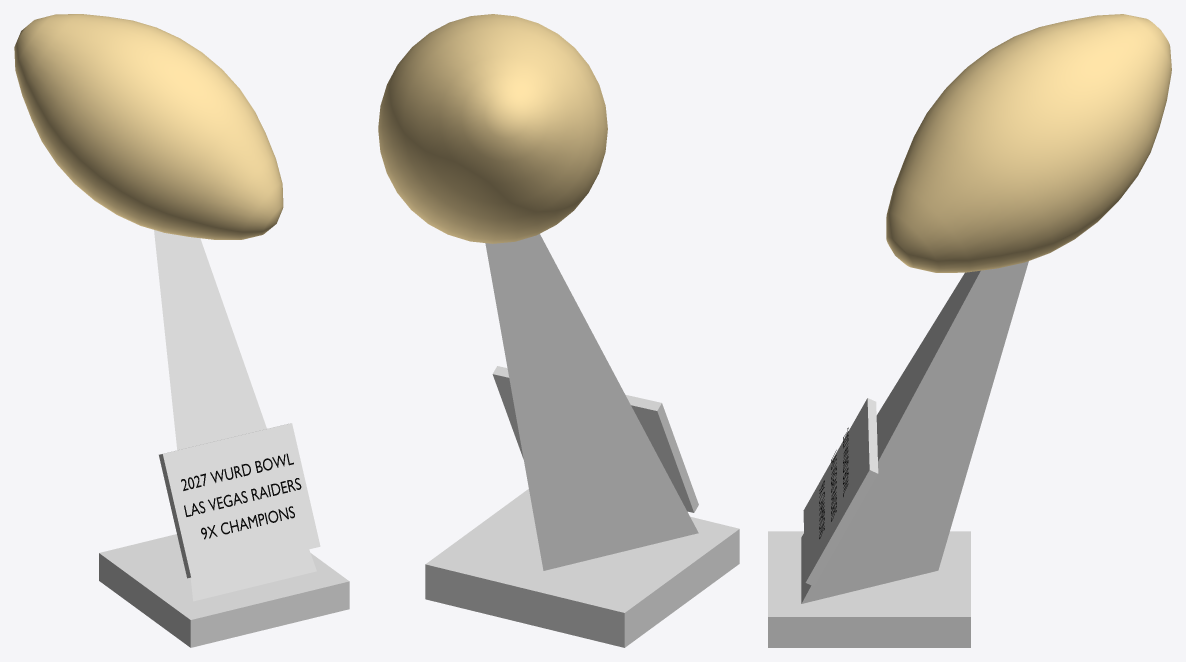
File: wurd_trophy_1.glb
3 views of the same model, side by side, from view 1: azimuth 30°, elevation 25°; view 2: azimuth 150°, elevation 25°; view 3: azimuth 270°, elevation 25° (orthographic). The views are drawn at different scales.
Visible parts, largest first — view 1: Sphere, Cylinder, Cube.001, Cube, Text; view 2: Sphere, Cylinder, Cube, Cube.001; view 3: Sphere, Cylinder, Cube, Cube.001, Text.
Boxes of the visible parts, left/top/right/bottom form: Sphere: left=14, top=14, right=283, bottom=239; Cylinder: left=154, top=230, right=316, bottom=601; Cube.001: left=159, top=423, right=320, bottom=578; Cube: left=99, top=534, right=349, bottom=647; Text: left=181, top=453, right=301, bottom=539; Sphere: left=378, top=14, right=607, bottom=243; Cylinder: left=485, top=234, right=698, bottom=570; Cube: left=425, top=489, right=739, bottom=647; Cube.001: left=492, top=366, right=698, bottom=512; Sphere: left=886, top=14, right=1171, bottom=272; Cylinder: left=801, top=261, right=1028, bottom=603; Cube: left=768, top=531, right=970, bottom=647; Cube.001: left=803, top=398, right=878, bottom=586; Text: left=819, top=427, right=848, bottom=538.
Bounding box in the file's own units: 2.28 × 6.12 × 3.98.
